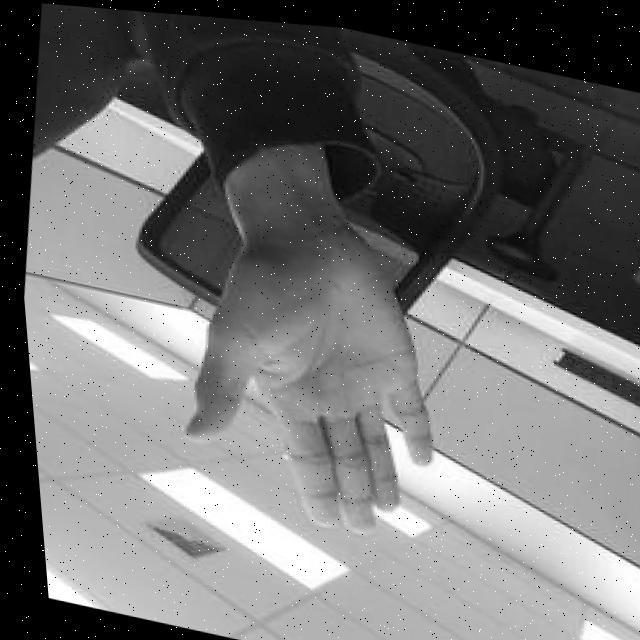no-gloves: (141, 192, 465, 550)
